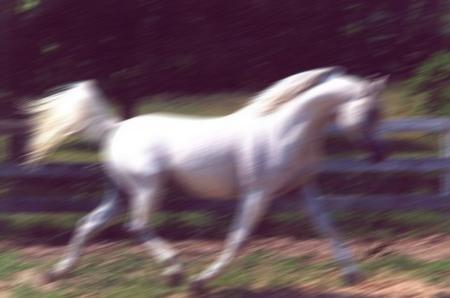horse: (13, 67, 390, 294)
